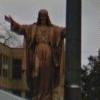Statue: (4, 3, 75, 100)
